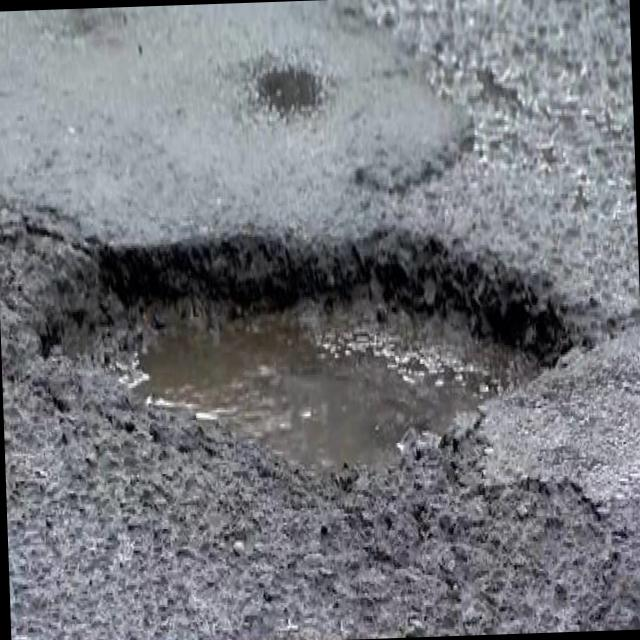Potholes: (0, 177, 615, 547)
